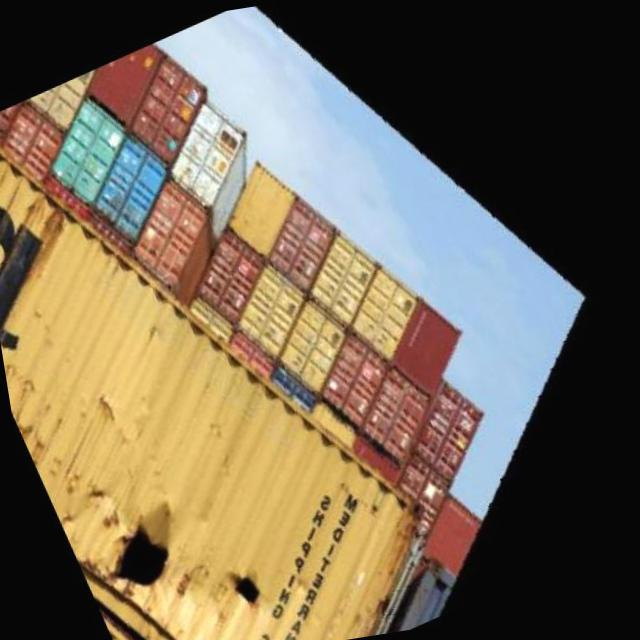hole: (73, 498, 195, 623), (202, 547, 284, 640)
